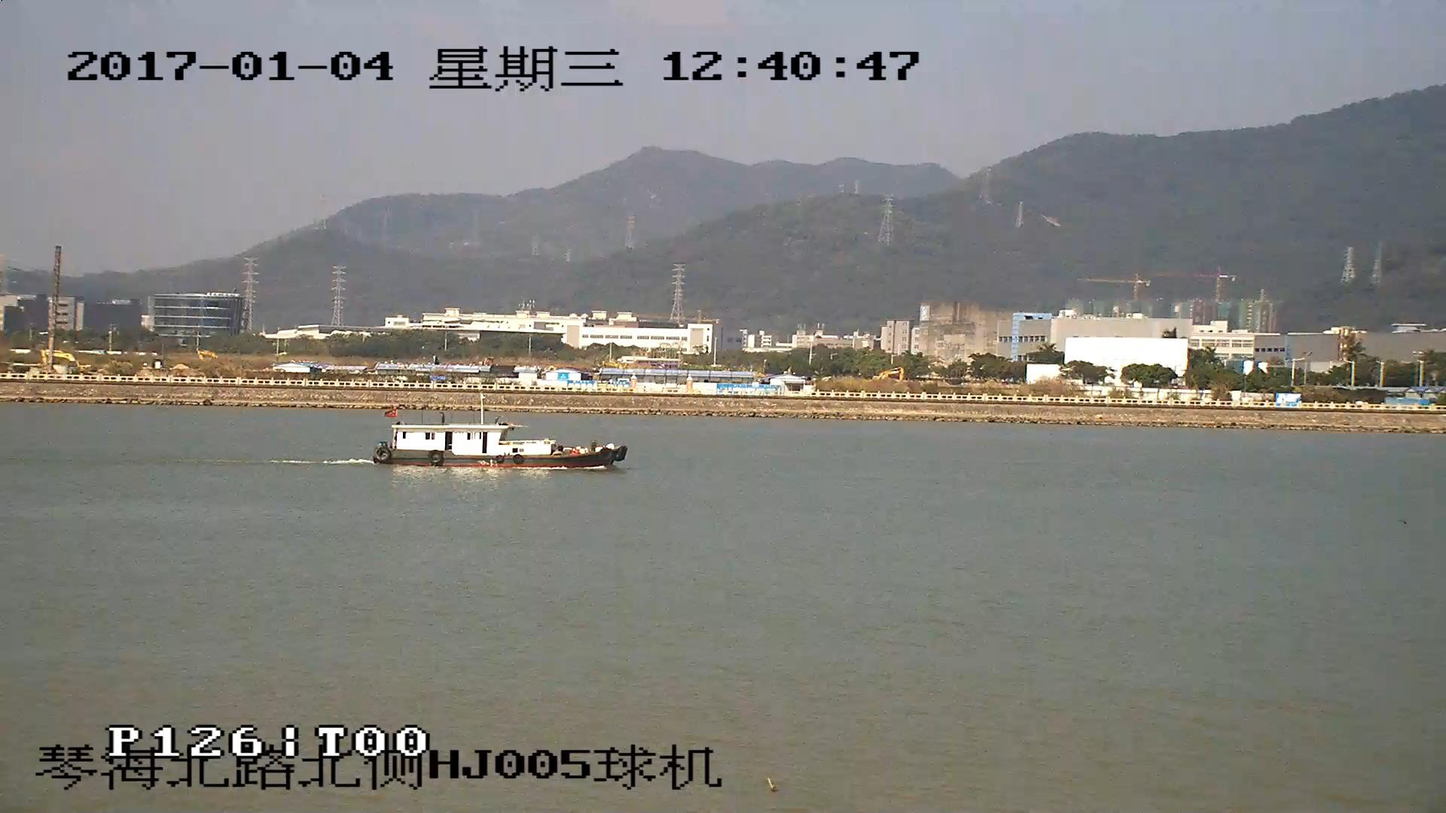fishing boat: (369, 390, 626, 468)
